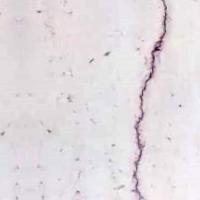crack: (97, 0, 195, 199)
